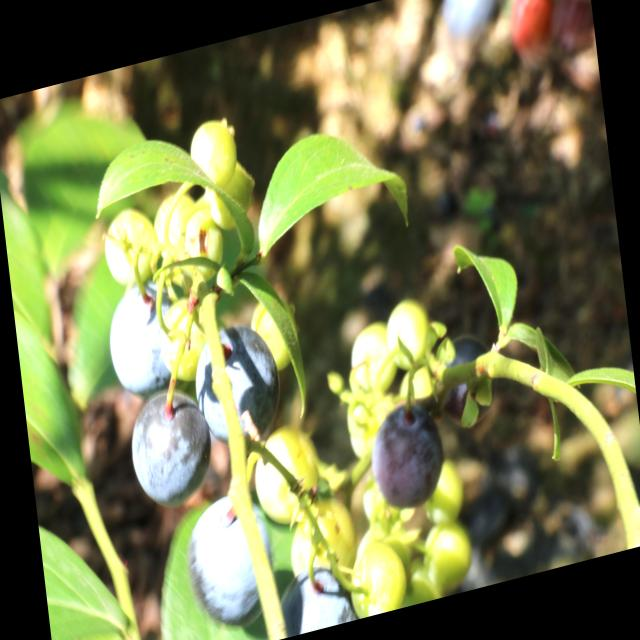blueberry: (182, 478, 280, 637), (190, 315, 286, 456), (99, 269, 194, 402), (125, 383, 218, 517), (366, 398, 444, 510), (434, 326, 502, 428)
blueberry-unripe: (150, 181, 228, 295), (248, 420, 322, 526), (283, 494, 365, 588), (96, 198, 162, 288), (343, 539, 414, 621), (344, 311, 401, 394), (186, 111, 244, 192), (418, 516, 476, 593), (422, 458, 465, 521)
